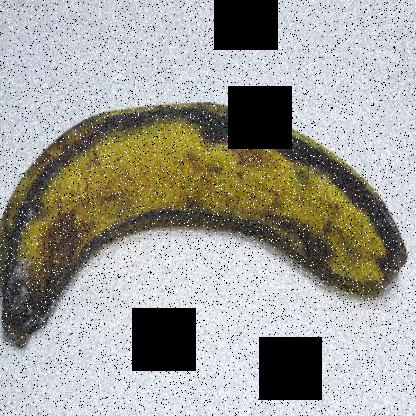overripe: (1, 74, 415, 380)
rotten: (1, 199, 103, 366)
